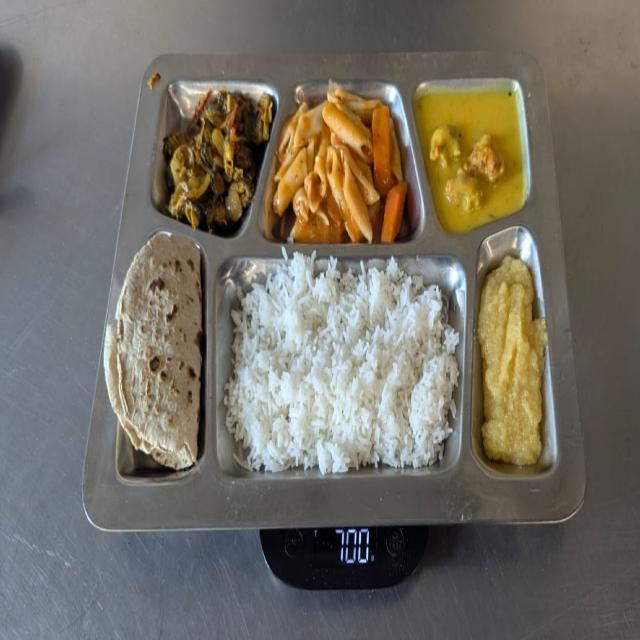Chapati: (120, 234, 202, 468)
Halwa: (484, 258, 540, 464)
Kadhi: (426, 98, 518, 216)
Karela Sabji: (170, 97, 252, 218)
Pasta: (288, 103, 397, 244)
White Rice: (238, 266, 452, 469)
